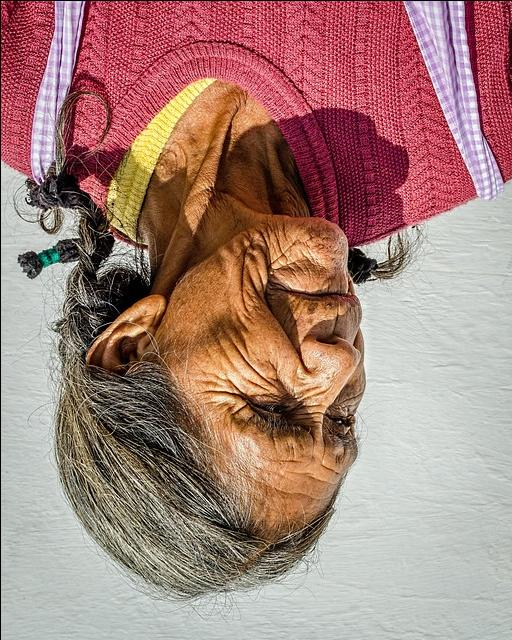Non_Gorille: (0, 13, 497, 595)
